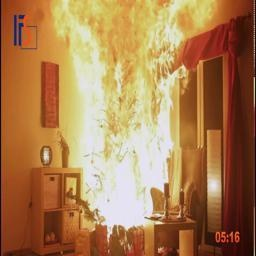fire: (42, 0, 208, 230)
